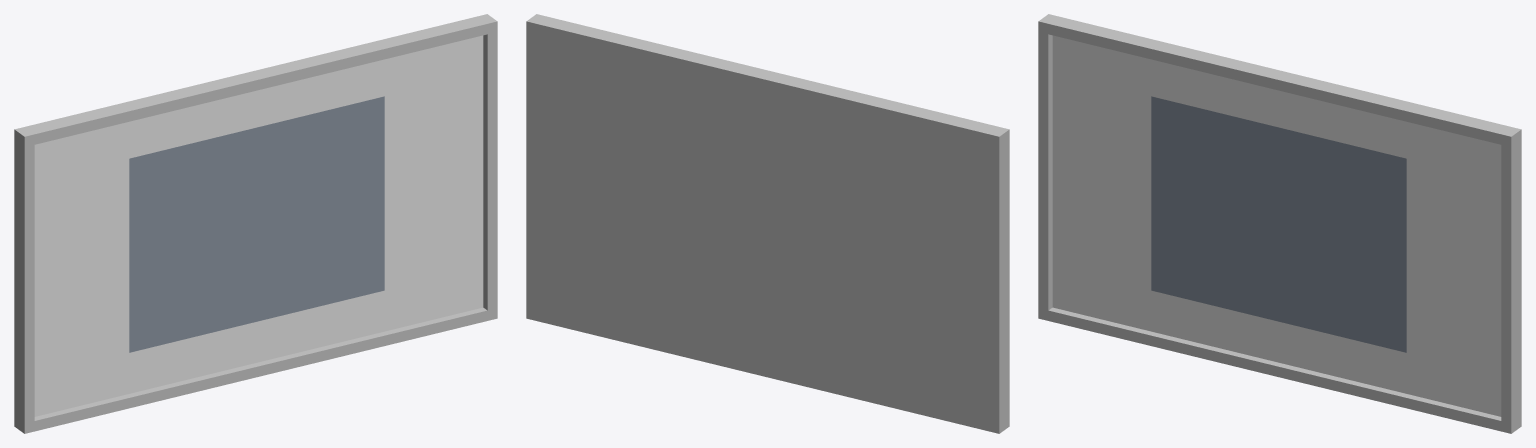
The model's file is backlight_1.fbx.
3 renders of one model, left to right at view 1: azimuth 30°, elevation 25°; view 2: azimuth 150°, elevation 25°; view 3: azimuth 330°, elevation 25°, orthographic.
Visible parts, largest first — view 1: Cube; view 2: Cube; view 3: Cube.
Part boxes in pixels (x1,y1,x2,y2): Cube: (14, 14, 497, 433); Cube: (526, 14, 1009, 433); Cube: (1038, 14, 1521, 433).
Size of the model in its own units: 42.49 by 25.51 by 1.58.
